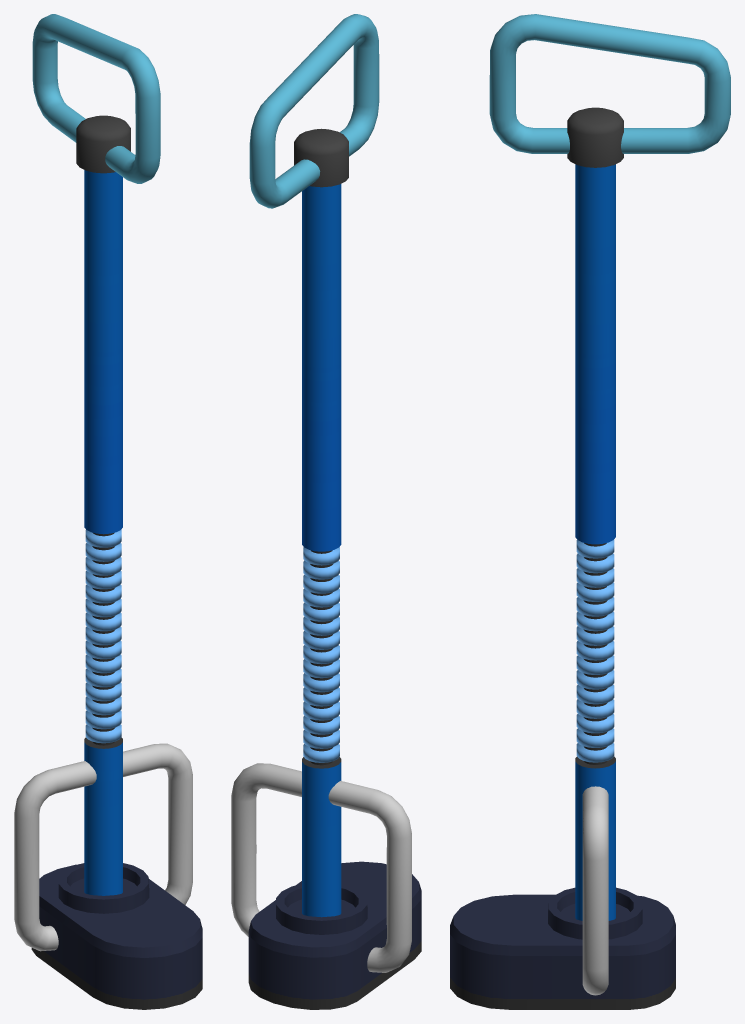
File: Stilt.FBX
The picture shows the model from 3 angles, left to right: view 1: azimuth 30°, elevation 25°; view 2: azimuth 150°, elevation 25°; view 3: azimuth 270°, elevation 25°; orthographic projection. The views are drawn at different scales.
Parts seen in each view (by area): view 1: Stilt; view 2: Stilt; view 3: Stilt.
Boxes of the visible parts, box(x1,y1,x2,y2) form: Stilt: box(14, 14, 202, 1009); Stilt: box(231, 14, 421, 1009); Stilt: box(450, 14, 730, 1009).
Bounding box in the file's own units: 10.11 × 51.06 × 13.42.
